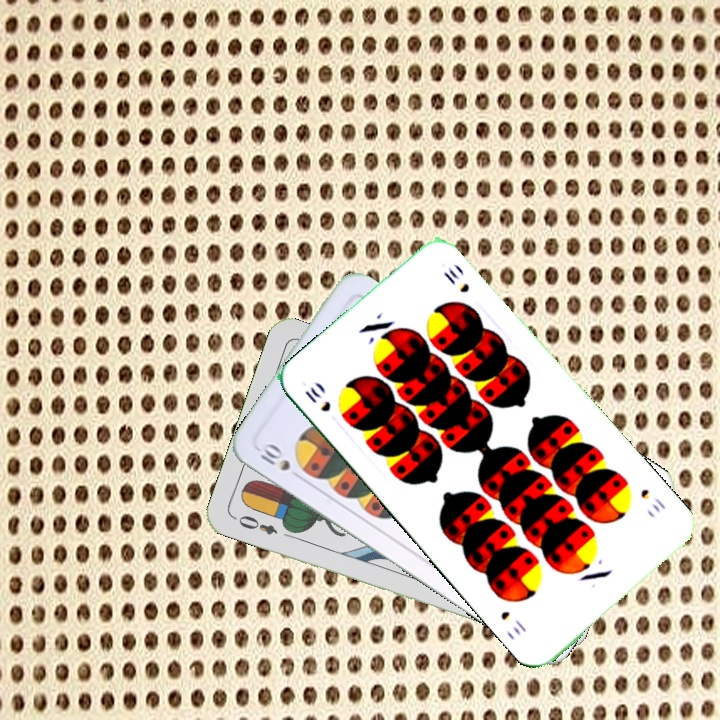EO: (229, 511, 280, 538)
S10: (256, 439, 306, 483), (300, 382, 334, 415), (636, 485, 669, 516)
